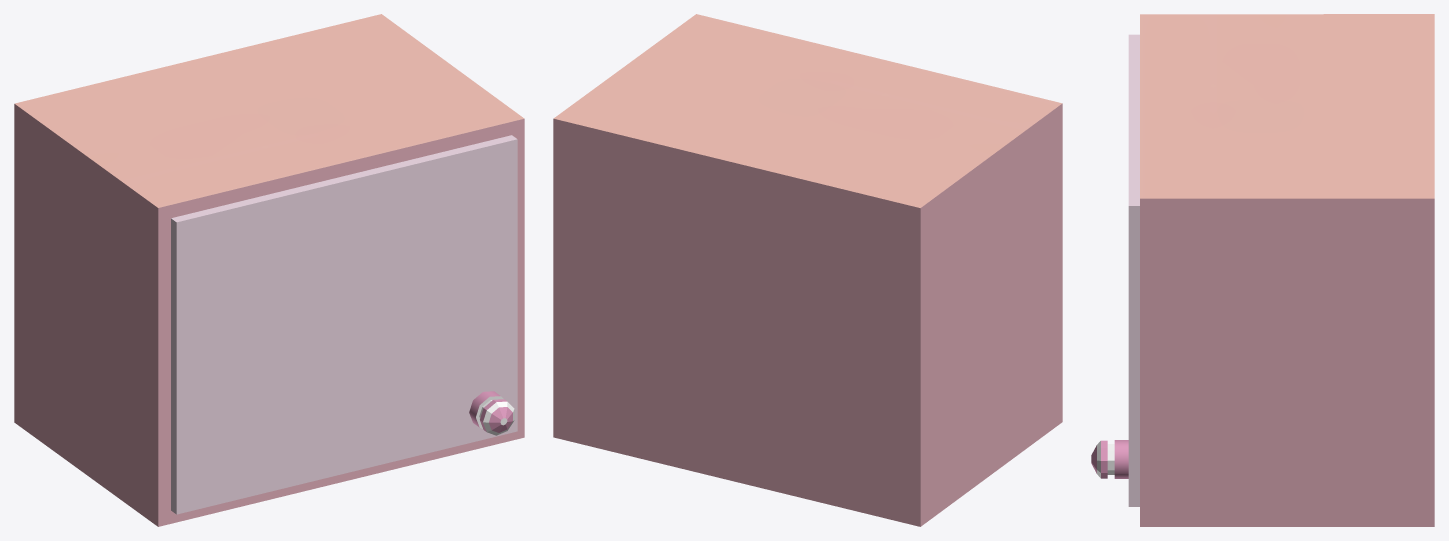
File: Cabinet_Pink_Upper1.fbx
3 views of the same model, side by side, from view 1: azimuth 30°, elevation 25°; view 2: azimuth 150°, elevation 25°; view 3: azimuth 270°, elevation 25° (orthographic). The views are drawn at different scales.
Visible parts, largest first — view 1: Cabinet_Pink_Upper1, Object182; view 2: Cabinet_Pink_Upper1; view 3: Cabinet_Pink_Upper1, Object182.
Boxes of the visible parts, x1=… form: Cabinet_Pink_Upper1: x1=14, y1=14, x2=524, y2=526; Object182: x1=171, y1=135, x2=517, y2=514; Cabinet_Pink_Upper1: x1=553, y1=14, x2=1062, y2=526; Cabinet_Pink_Upper1: x1=1140, y1=14, x2=1434, y2=526; Object182: x1=1091, y1=34, x2=1139, y2=506.
Bounding box in the file's own units: 100 × 82.98 × 78.61.
